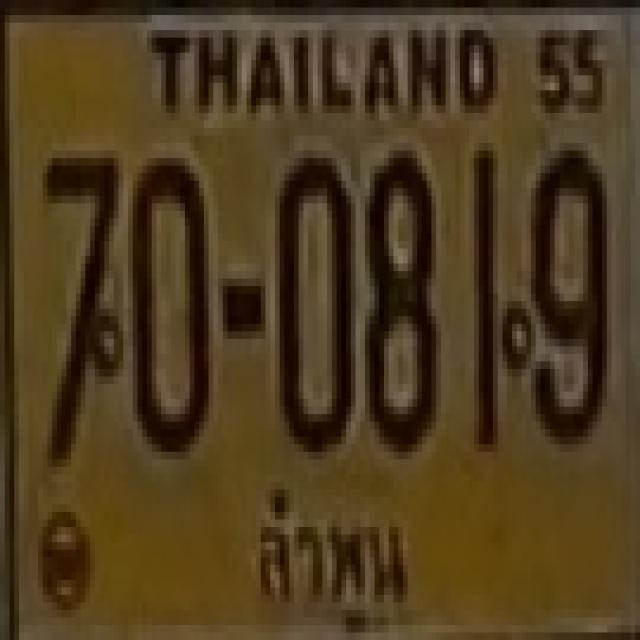0: (128, 151, 204, 444), (275, 151, 351, 444)
1: (469, 147, 498, 448)
7: (42, 151, 114, 459)
8: (361, 143, 432, 444)
9: (526, 143, 602, 437)
LPN: (247, 478, 414, 638)
